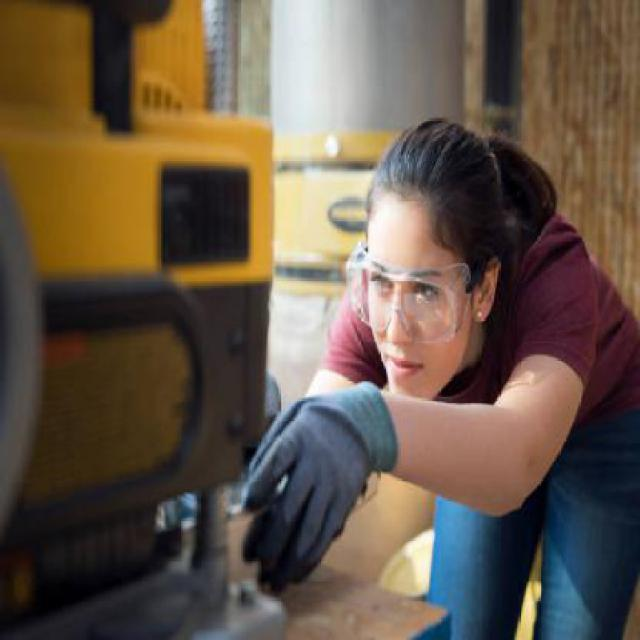glass: (337, 230, 474, 349)
head: (349, 113, 506, 304)
person: (279, 96, 635, 629)
